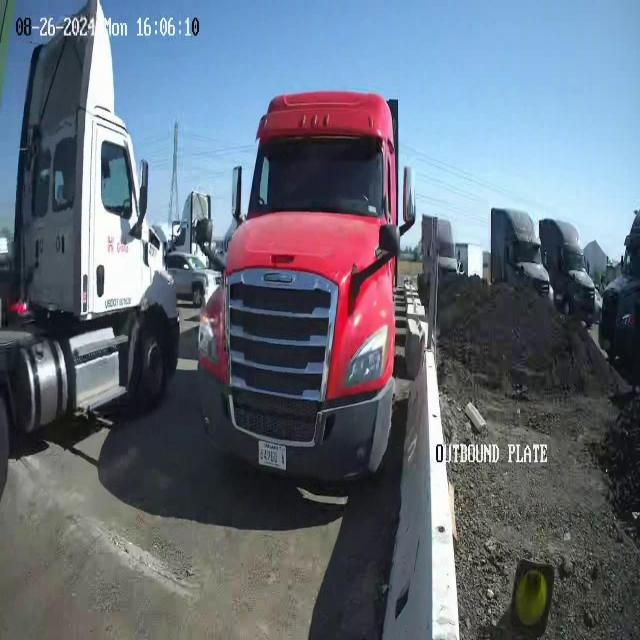TRUCK_IN: (196, 90, 420, 488)
